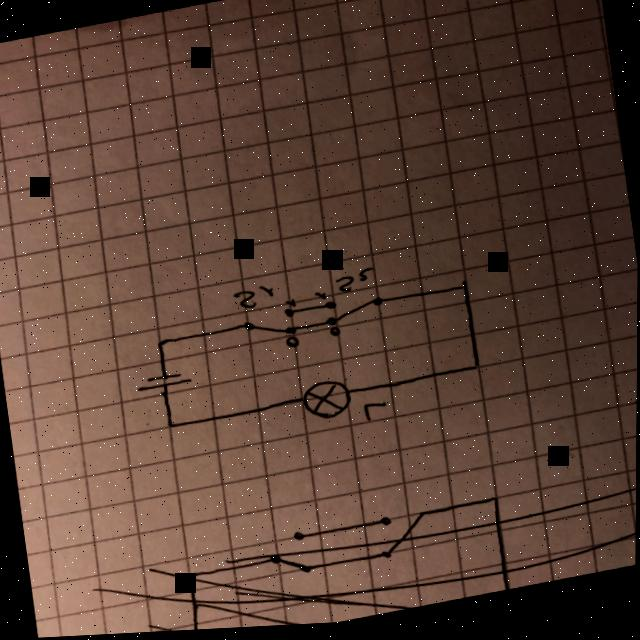junction: (448, 279, 471, 301), (149, 336, 171, 354), (468, 362, 487, 378), (159, 420, 178, 434)
source: (132, 370, 194, 395)
switch: (323, 295, 386, 330), (241, 310, 299, 347)
text: (230, 283, 277, 315), (330, 268, 377, 298), (361, 403, 389, 427), (328, 328, 343, 343), (284, 339, 301, 352), (284, 301, 297, 314), (313, 293, 326, 306)
